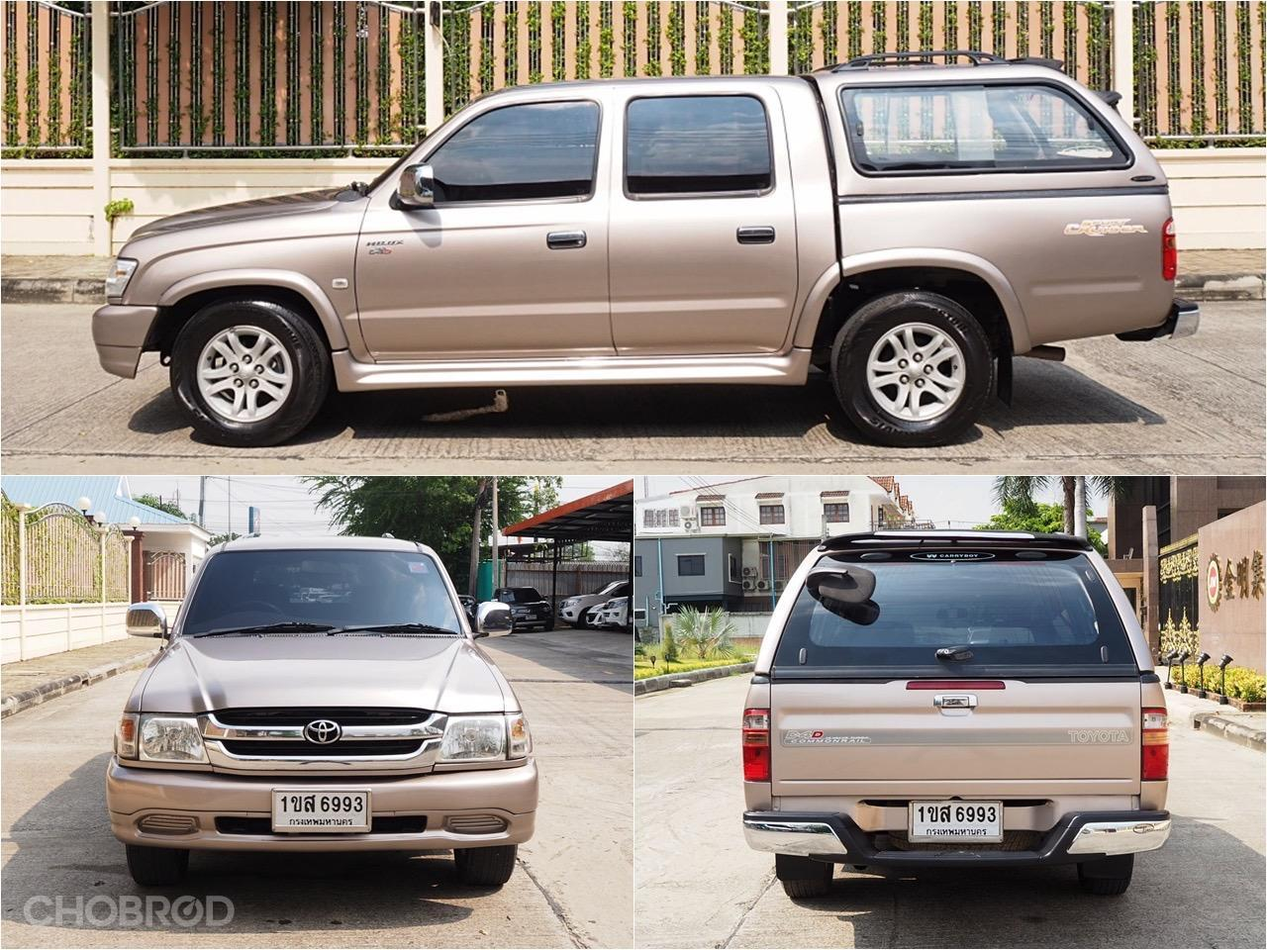license-plate: (256, 780, 376, 838), (898, 790, 1003, 854)
